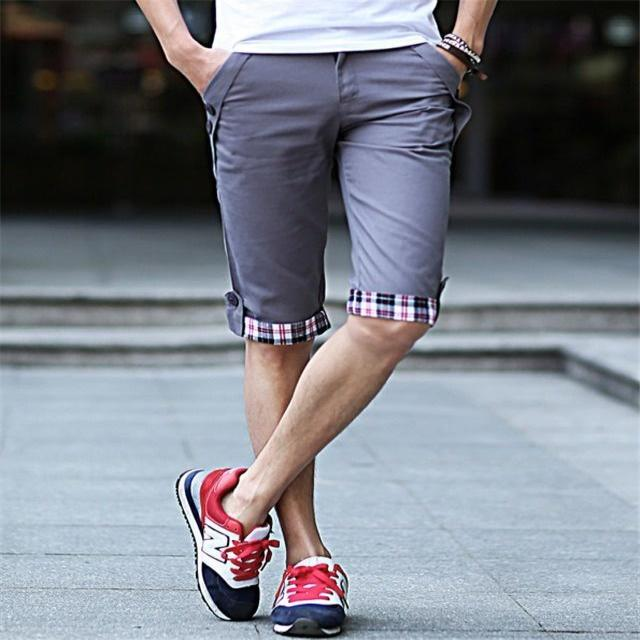shorts: (154, 32, 494, 363)
